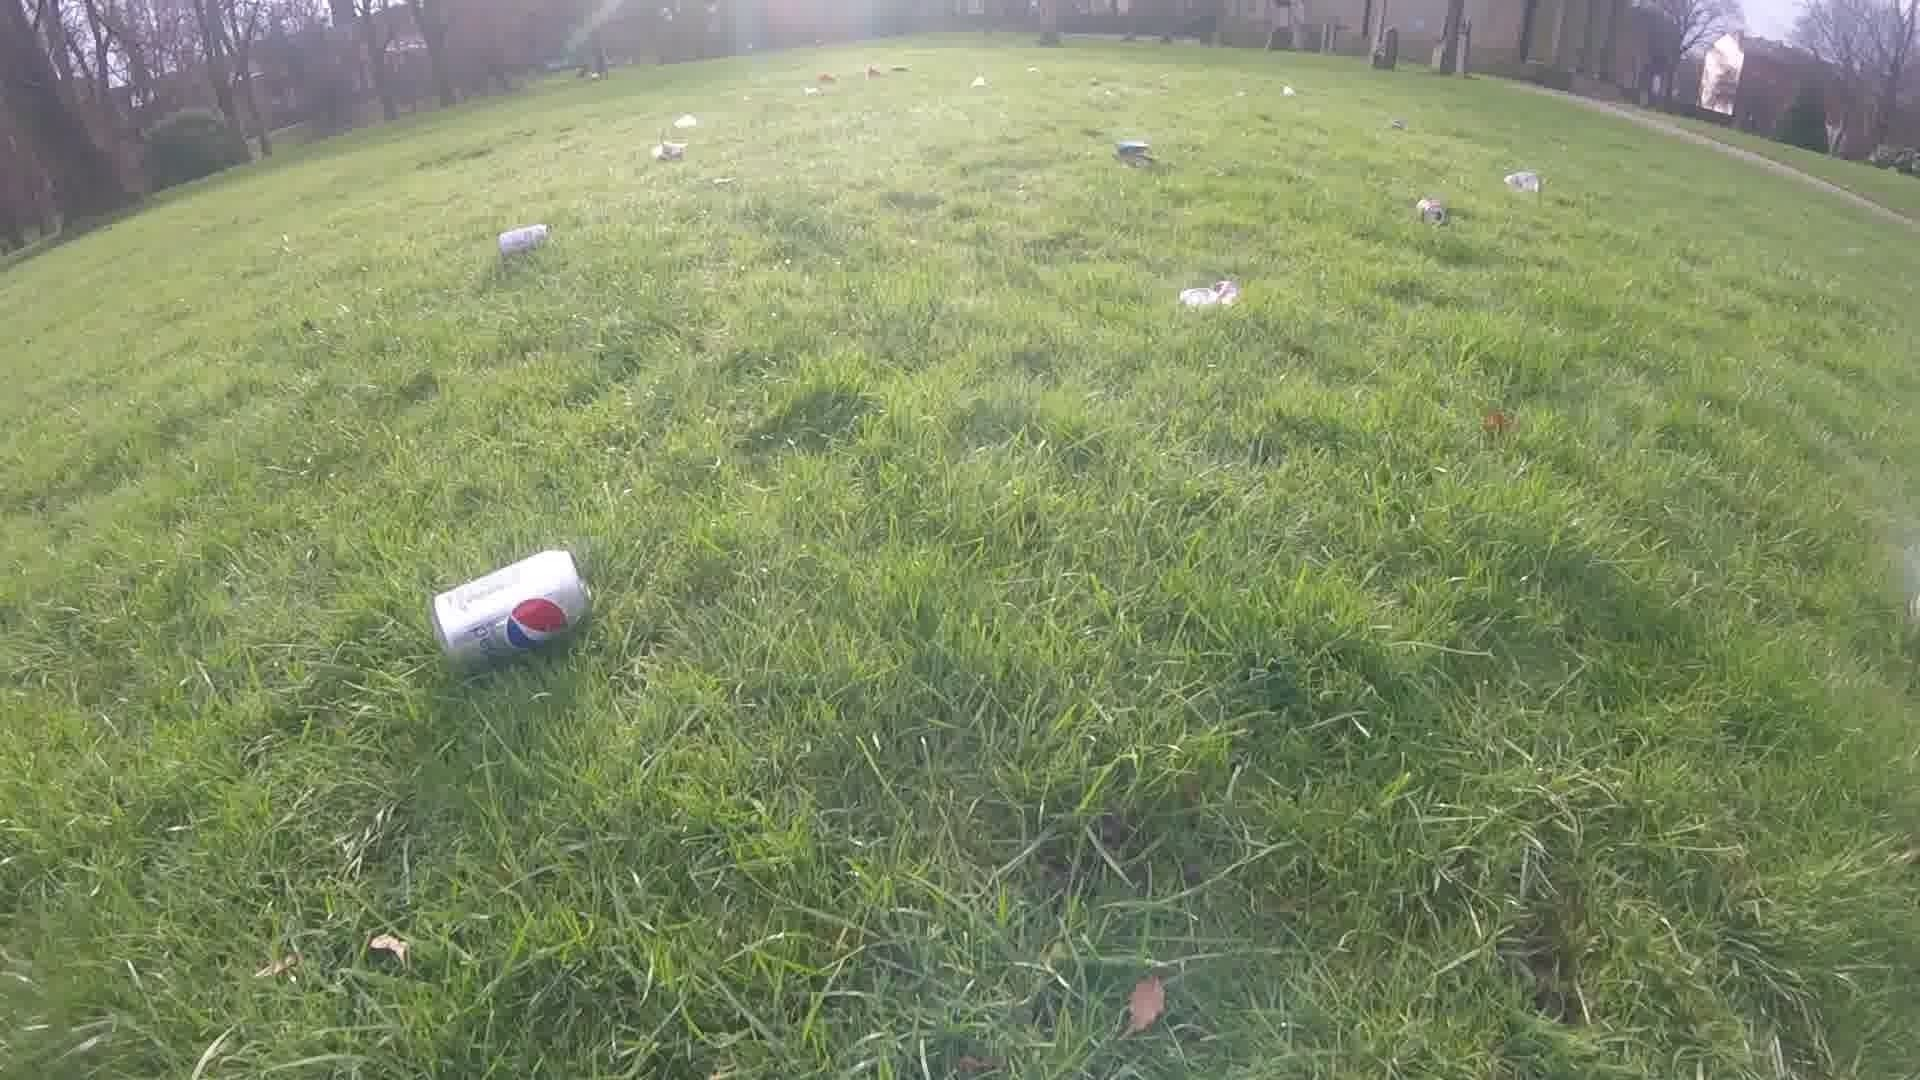litter: (422, 547, 596, 667), (1180, 277, 1232, 316), (496, 222, 553, 256), (1410, 194, 1447, 227), (1495, 169, 1544, 193), (1112, 140, 1160, 161), (647, 140, 682, 160), (963, 75, 989, 94), (1276, 83, 1302, 100), (808, 71, 841, 83), (855, 70, 890, 80), (1387, 119, 1408, 135), (673, 115, 695, 127), (880, 66, 907, 75)
